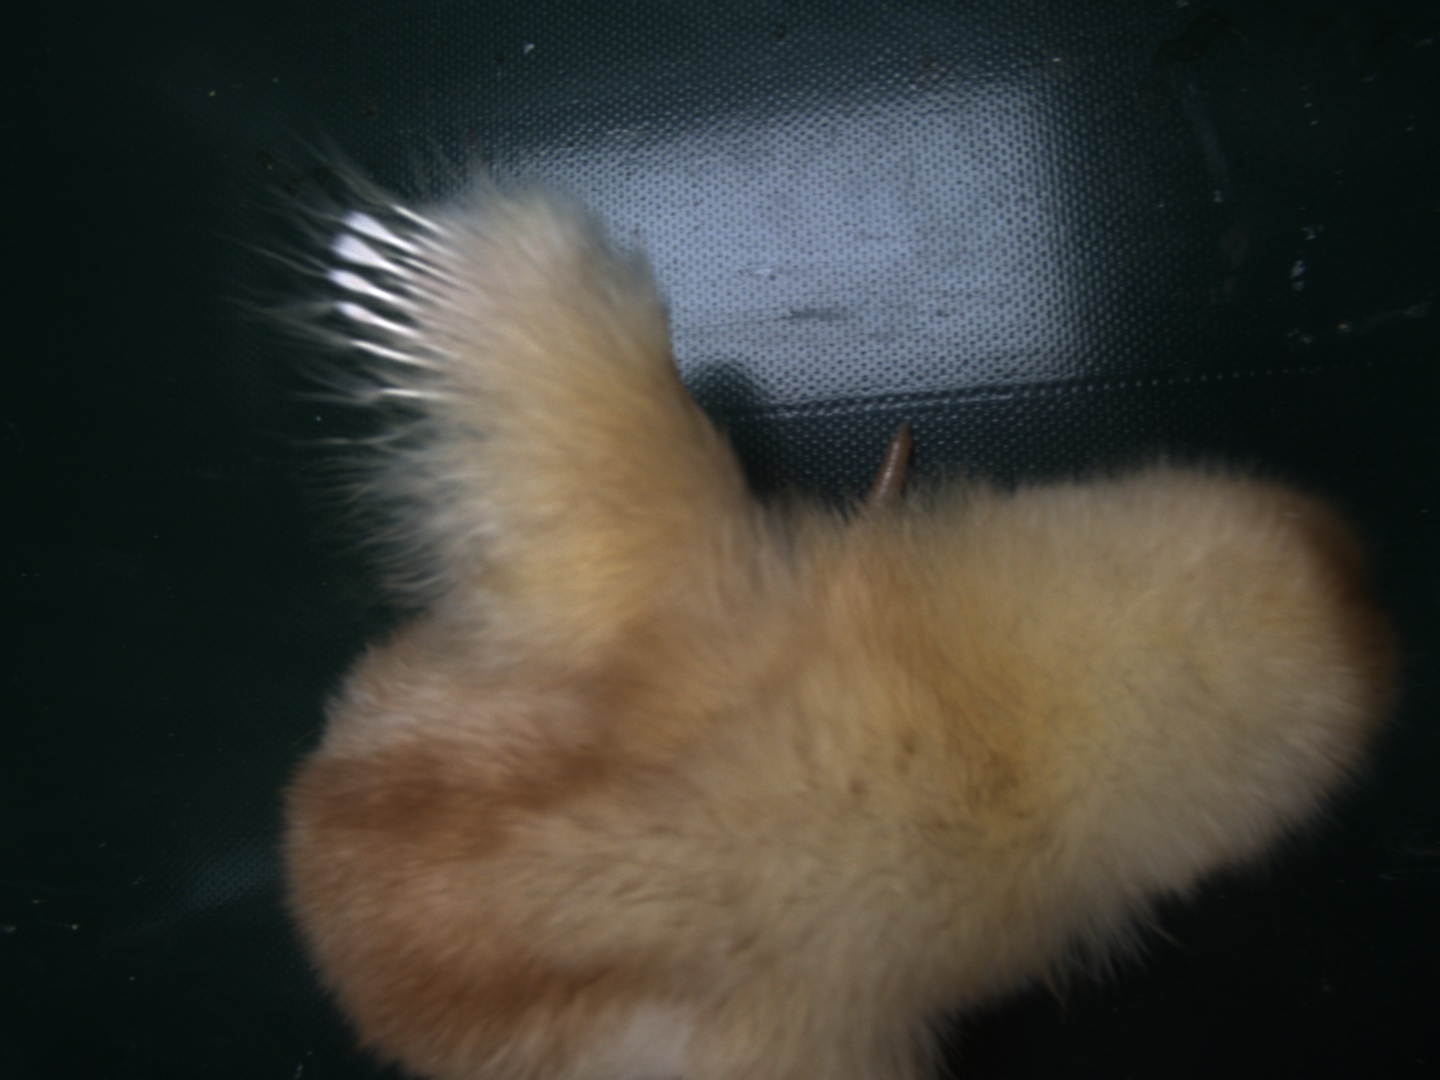female: (320, 193, 475, 405)
